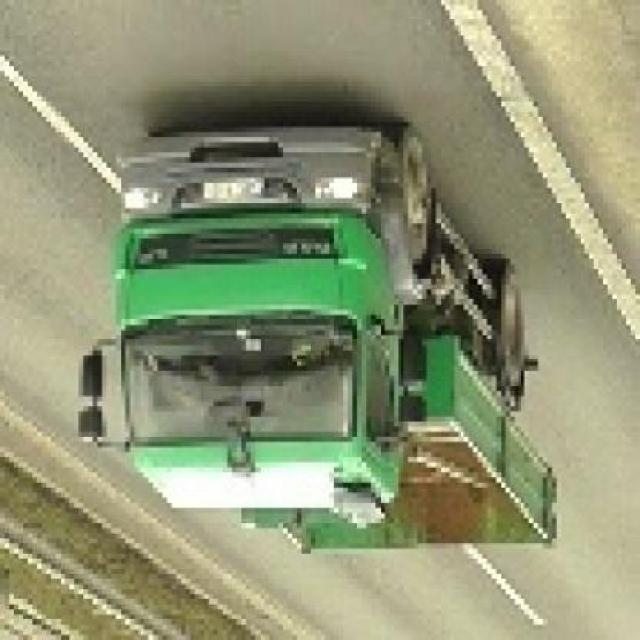truck: (75, 123, 553, 565)
